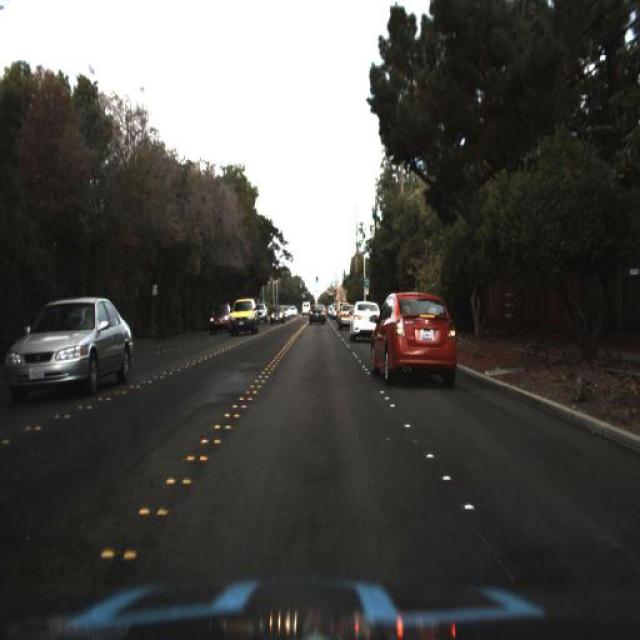car: (3, 294, 136, 401), (369, 287, 460, 391), (228, 294, 260, 337), (204, 296, 234, 340), (333, 297, 358, 332), (307, 302, 327, 331), (268, 300, 288, 328), (300, 296, 312, 320)
